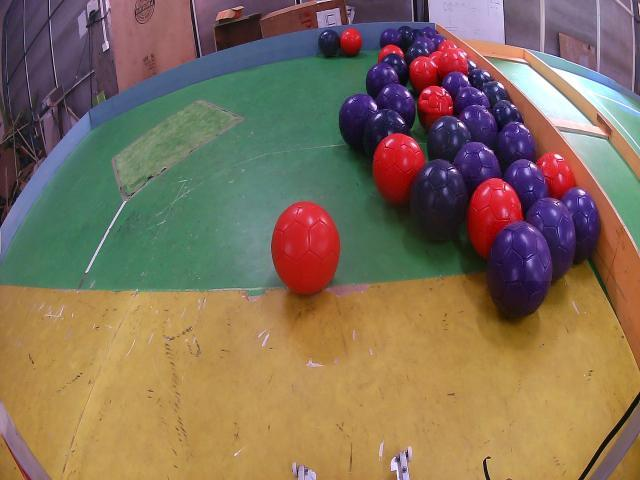jambhalya: (487, 222, 552, 319), (526, 198, 576, 281), (454, 142, 502, 198), (504, 158, 549, 217), (340, 93, 378, 150), (495, 122, 537, 172), (376, 84, 416, 128), (460, 105, 497, 150), (366, 62, 399, 98), (454, 87, 489, 118), (442, 71, 471, 101), (319, 30, 339, 56), (380, 29, 402, 48), (414, 37, 436, 53), (432, 34, 446, 48), (422, 27, 438, 38)
kaalyya: (411, 158, 467, 240), (561, 187, 600, 262), (364, 109, 409, 158), (426, 115, 471, 162), (491, 102, 524, 132), (381, 53, 409, 86), (483, 81, 510, 107), (405, 44, 428, 68), (468, 68, 493, 90), (398, 25, 412, 53), (407, 30, 424, 45), (468, 59, 477, 73)
